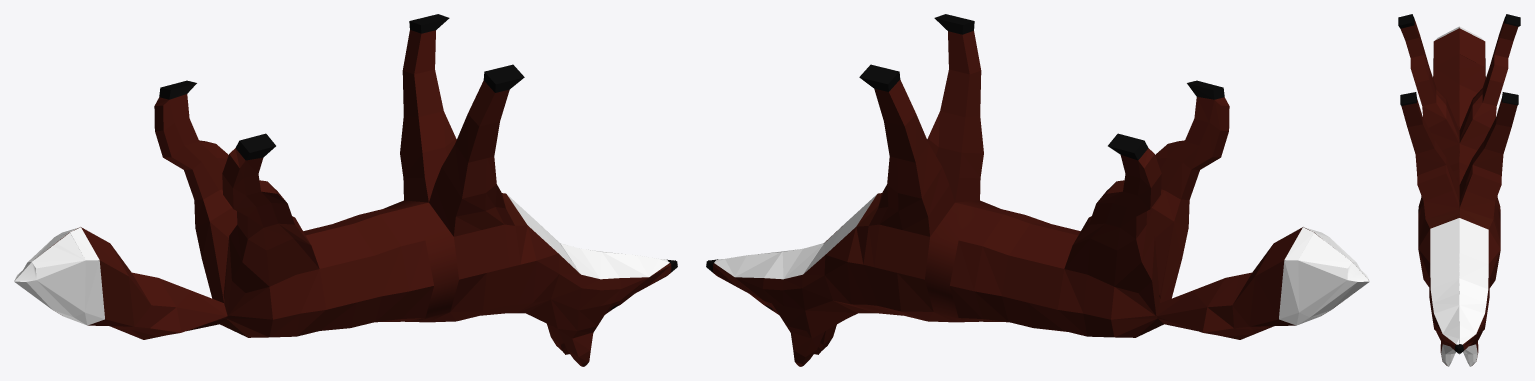
The model's file is Fuchs.FBX.
3 renders of one model, left to right at view 1: azimuth 30°, elevation 25°; view 2: azimuth 150°, elevation 25°; view 3: azimuth 270°, elevation 25°, orthographic. The views are drawn at different scales.
Parts seen in each view (by area): view 1: Cylinder003; view 2: Cylinder003; view 3: Cylinder003.
Boxes of the visible parts, x1=… form: Cylinder003: x1=14, y1=14, x2=677, y2=366; Cylinder003: x1=706, y1=14, x2=1369, y2=366; Cylinder003: x1=1398, y1=14, x2=1520, y2=366.
Bounding box in the file's own units: 147 × 72.44 × 34.35.
